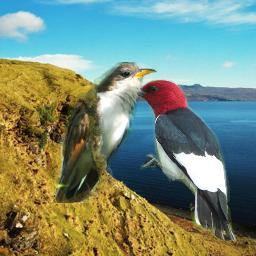Cuckoo: (55, 62, 157, 203)
Woodpecker: (116, 79, 240, 241)
